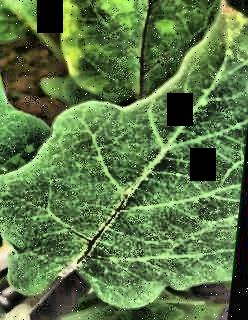Non-critical Stress: (1, 1, 248, 320)
